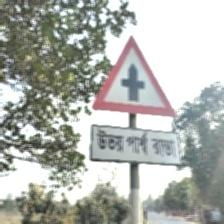Crossroad: (89, 32, 183, 169)
